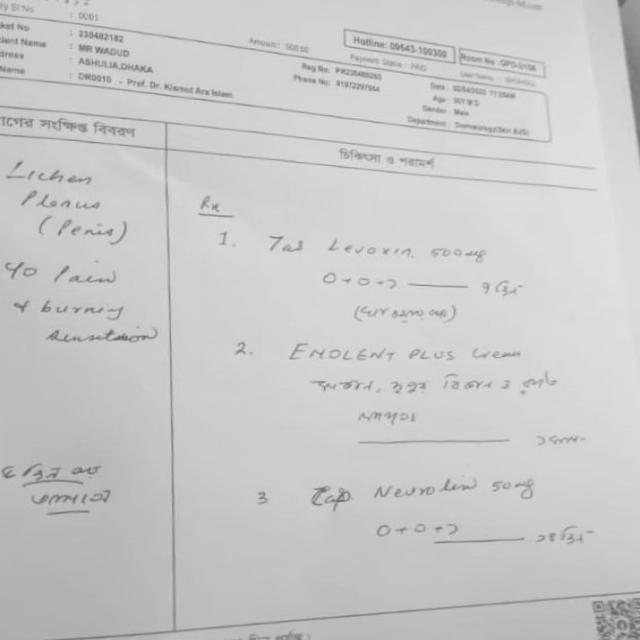medicine: (273, 324, 463, 370), (309, 231, 426, 270), (366, 476, 481, 502)
